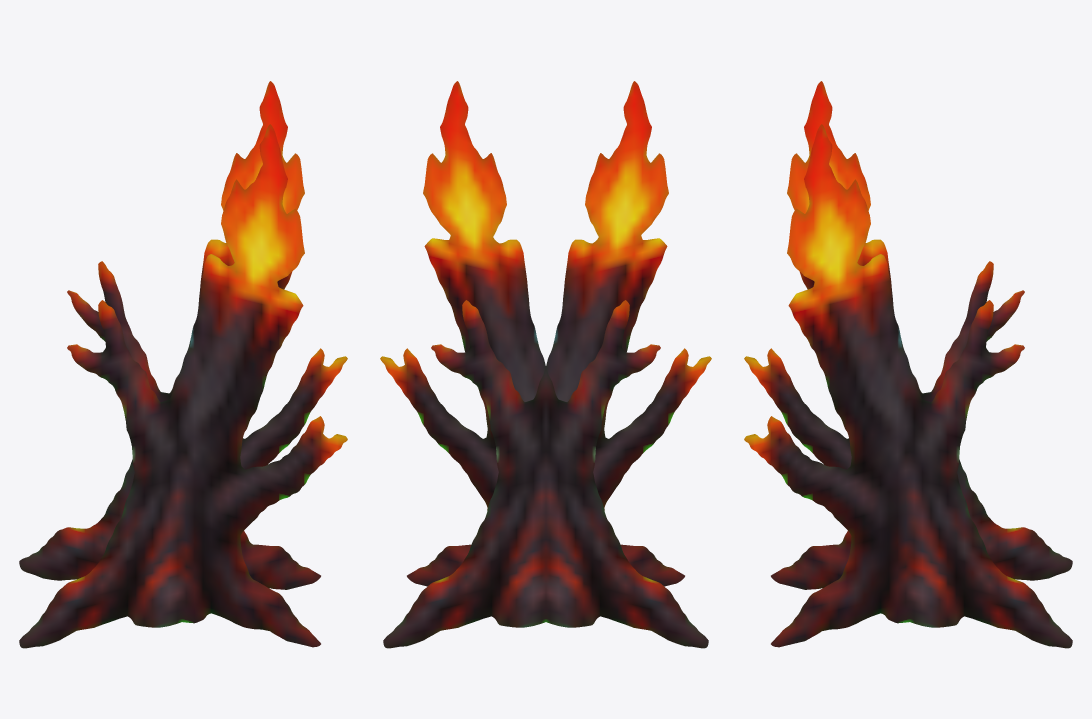
Rendered from h_braises_feuille.glb.
The picture shows the model from 3 angles, left to right: view 1: azimuth 30°, elevation 25°; view 2: azimuth 150°, elevation 25°; view 3: azimuth 270°, elevation 25°; orthographic projection.
Parts seen in each view (by area): view 1: h_braises_feuille; view 2: h_braises_feuille; view 3: h_braises_feuille.
Part boxes in pixels (x1,y1,x2,y2): h_braises_feuille: (19, 81, 347, 648); h_braises_feuille: (380, 81, 711, 648); h_braises_feuille: (744, 81, 1072, 648).
Bounding box in the file's own units: 0.2133 × 0.32 × 0.1848.
1 material, 1 textured.
